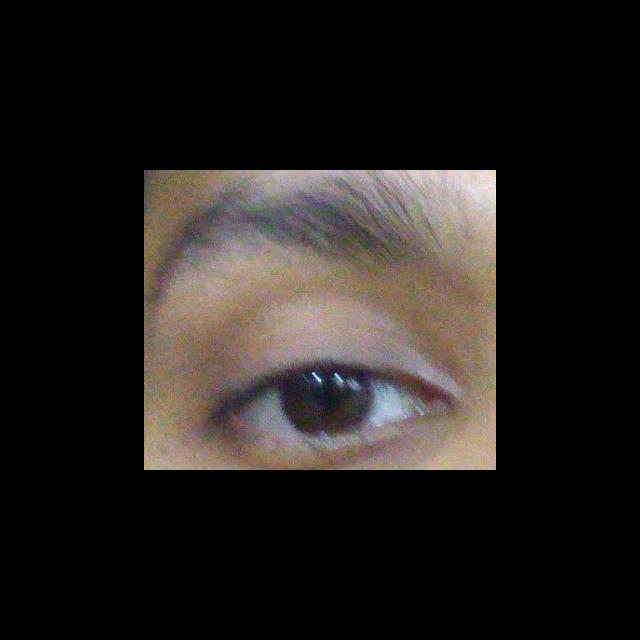eye: (235, 371, 414, 434)
iris: (278, 374, 375, 434)
